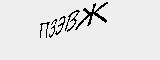В: (63, 7, 78, 34)
Ж: (73, 1, 108, 30)
З: (48, 15, 59, 40)
П: (37, 19, 51, 42)
Э: (54, 11, 67, 40)
